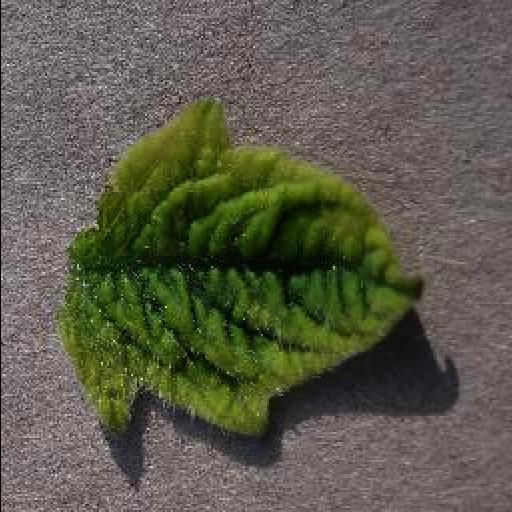disease_tomato: (58, 108, 424, 442)
